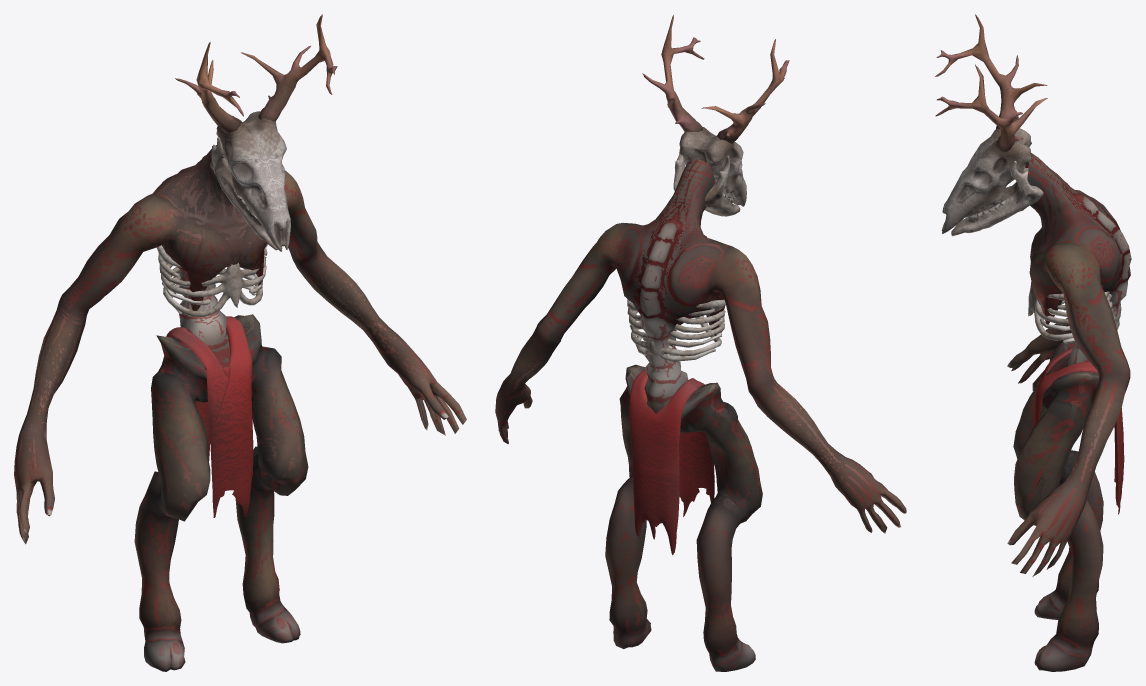
The model's file is wendigo.glb.
3 renders of one model, left to right at view 1: azimuth 30°, elevation 25°; view 2: azimuth 150°, elevation 25°; view 3: azimuth 270°, elevation 25°, orthographic. The views are drawn at different scales.
Visible parts, largest first — view 1: Object_4, Object_2, Object_3; view 2: Object_4, Object_2, Object_3; view 3: Object_4, Object_2, Object_3.
Part boxes in pixels (<box>): Object_4: <box>14,145,466,671</box>; Object_2: <box>156,14,337,317</box>; Object_3: <box>210,137,282,250</box>; Object_4: <box>495,159,906,671</box>; Object_2: <box>627,15,789,361</box>; Object_3: <box>673,154,740,216</box>; Object_4: <box>1007,153,1131,671</box>; Object_2: <box>935,14,1121,343</box>; Object_3: <box>951,161,1043,236</box>.
Size of the model in its own units: 161 by 227 by 67.04.
2 materials, 2 textured.
